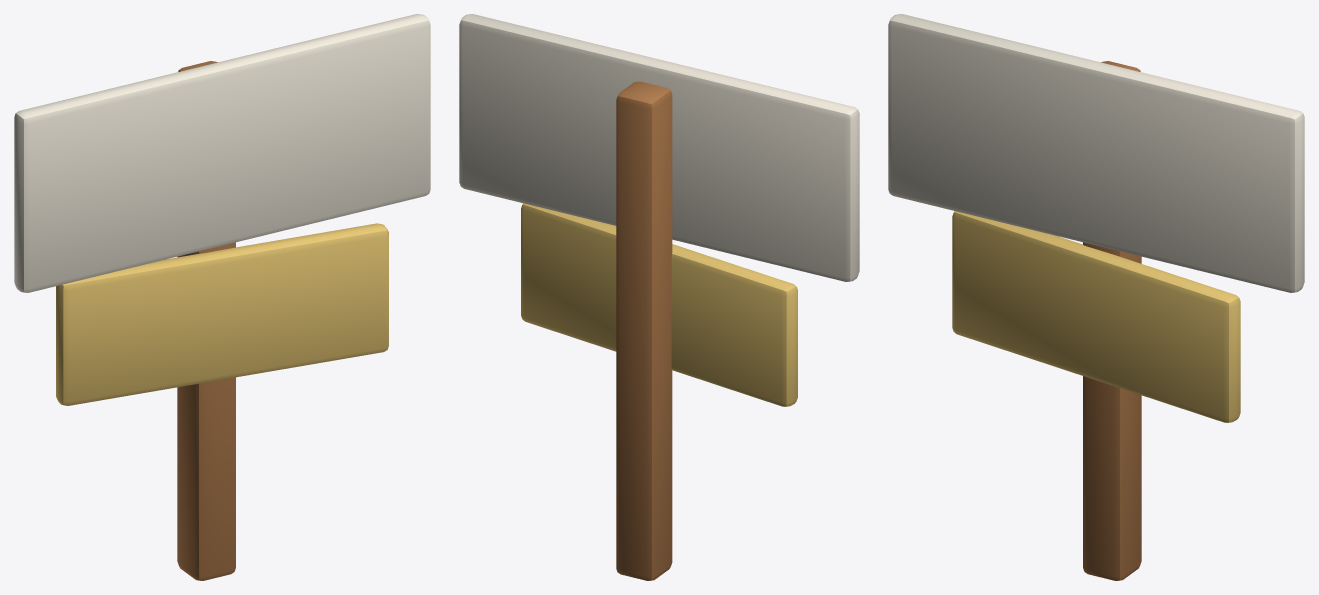
Rendered from sign.glb.
3 views of the same model, side by side, from view 1: azimuth 30°, elevation 25°; view 2: azimuth 150°, elevation 25°; view 3: azimuth 330°, elevation 25° (orthographic). The views are drawn at different scales.
Parts seen in each view (by area): view 1: SignMesh; view 2: SignMesh; view 3: SignMesh.
Part boxes in pixels (bbox=[...]): SignMesh: bbox=[14, 14, 430, 580]; SignMesh: bbox=[459, 14, 859, 580]; SignMesh: bbox=[888, 14, 1304, 580].
Size of the model in its own units: 1.2 by 1.45 by 0.2296.
